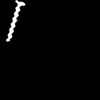half_double_crochet: (6, 0, 24, 40)
